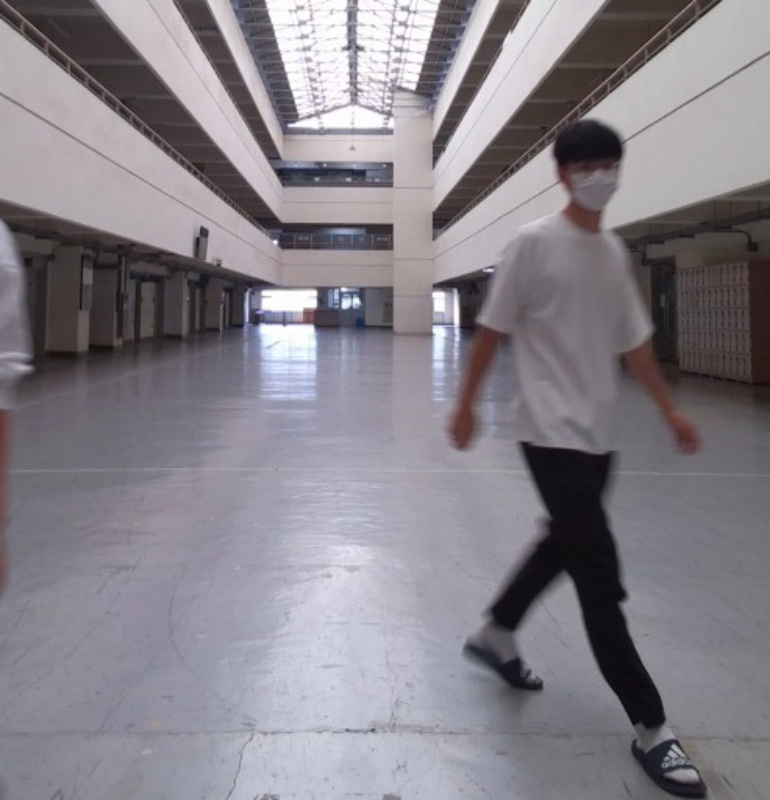person: (450, 115, 718, 799)
